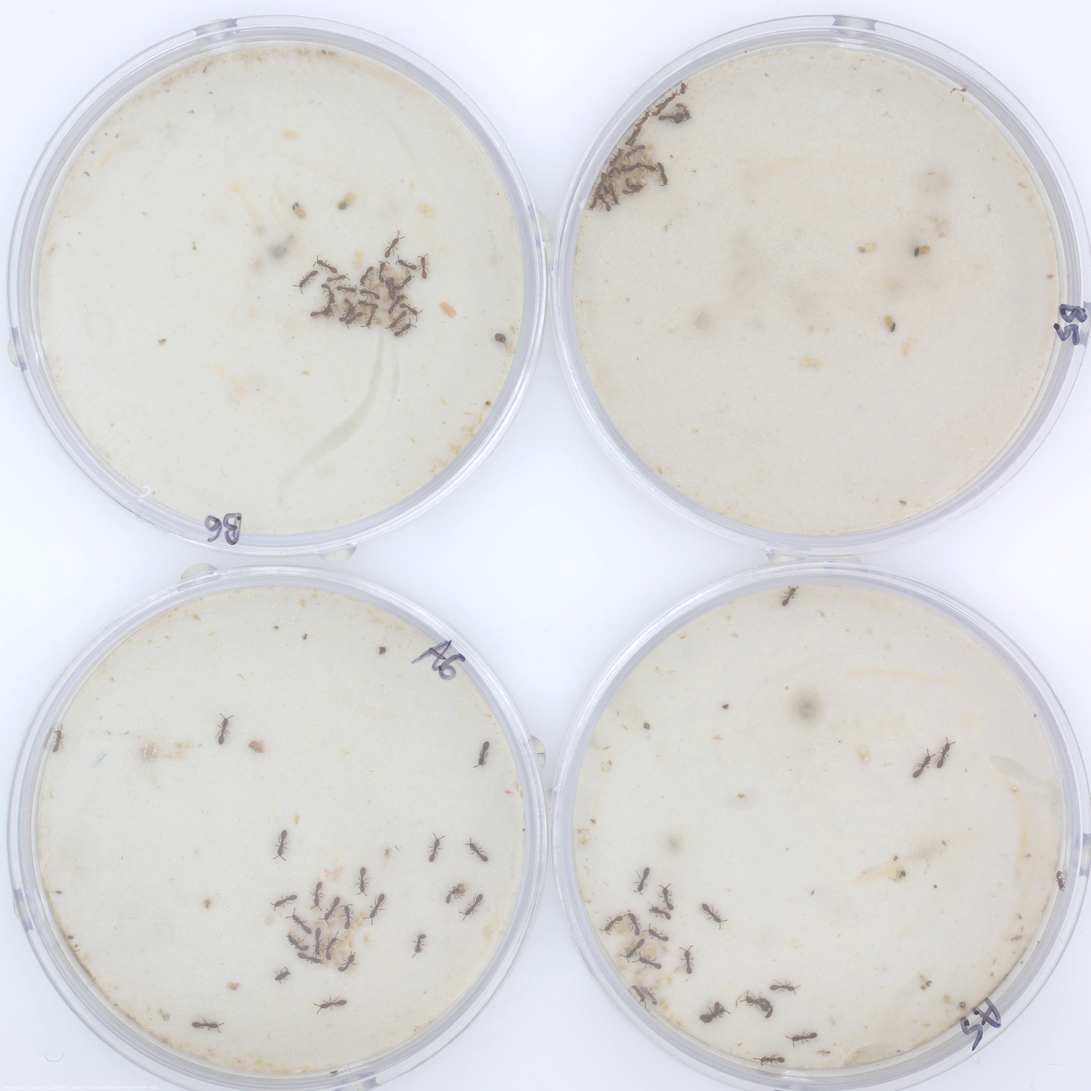brood: (328, 265, 419, 336), (590, 142, 665, 209), (310, 900, 368, 976), (615, 935, 669, 986), (610, 913, 645, 936), (640, 926, 669, 943), (651, 972, 673, 994), (288, 927, 306, 950), (363, 931, 378, 947), (659, 997, 670, 1014), (650, 908, 668, 918), (673, 965, 688, 976)
